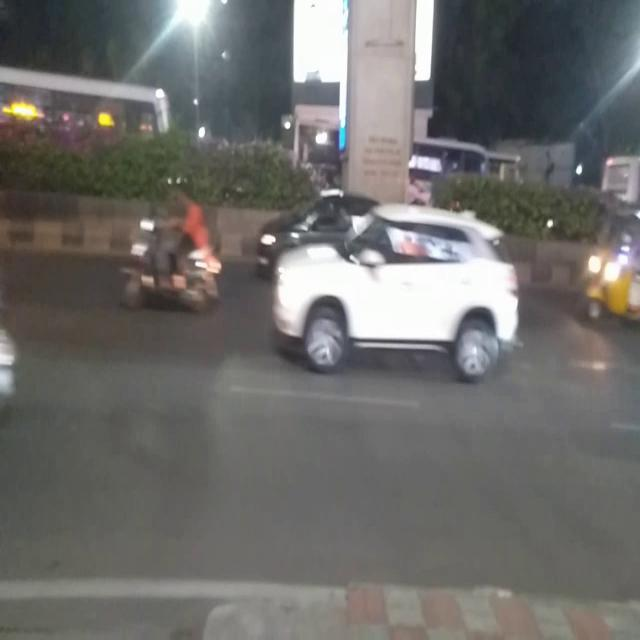auto: (582, 200, 640, 340)
bus: (0, 58, 175, 130)
car: (272, 199, 522, 369)
road: (0, 252, 640, 584)
sidewalk: (0, 579, 640, 640)
